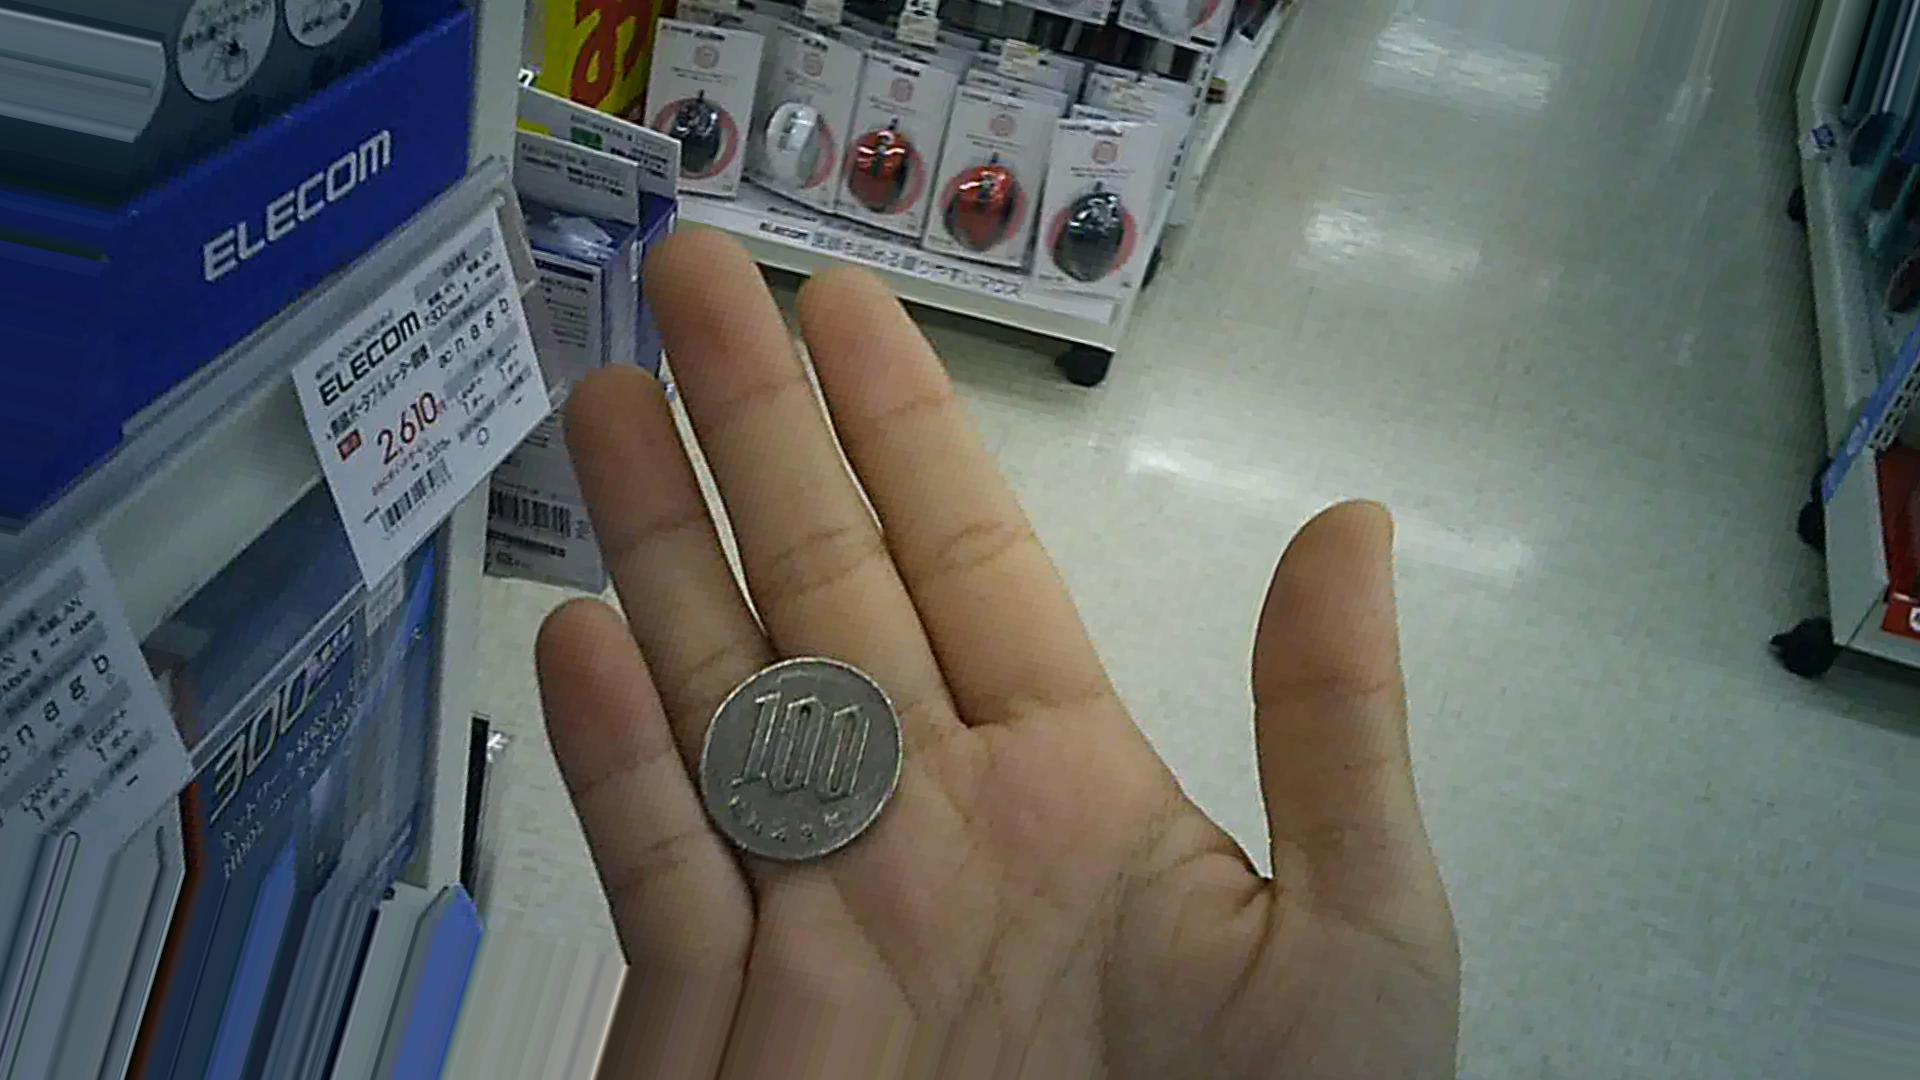100 Yen: (686, 642, 905, 868)
